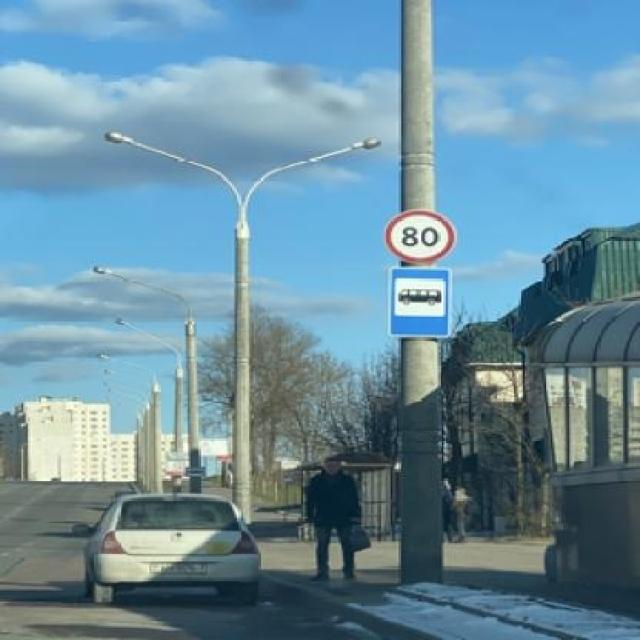forb_speed_over_80: (384, 210, 455, 264)
